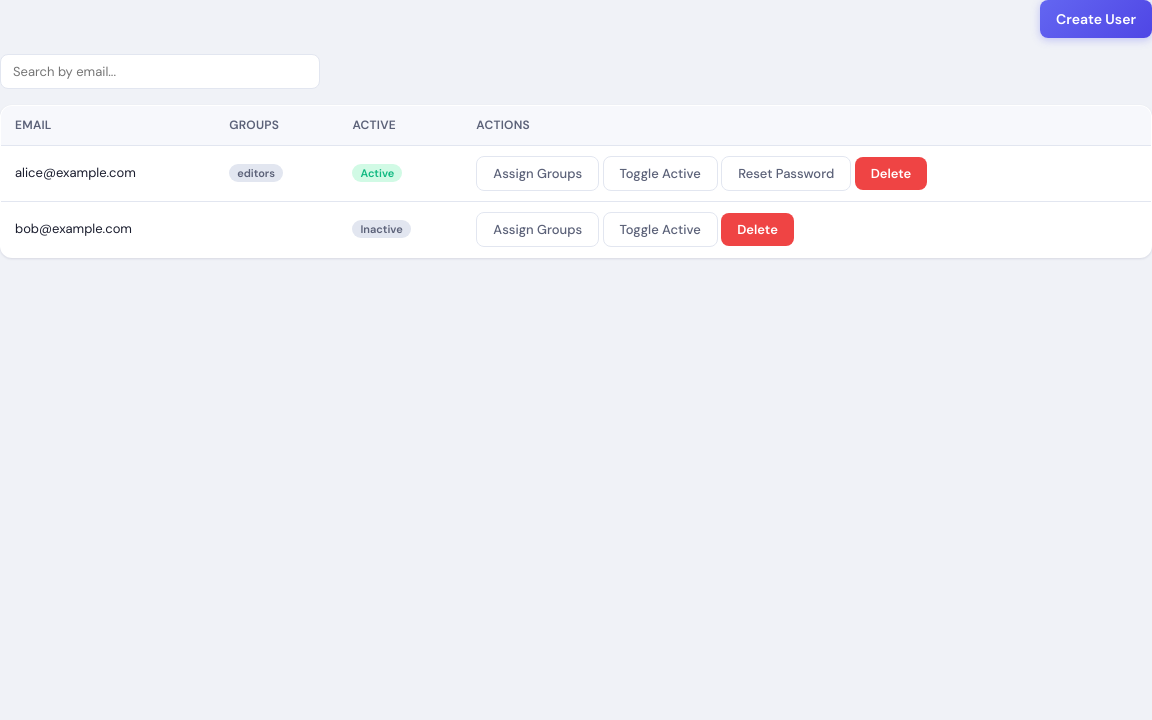
it: UsersTab › opens AssignGroupModal when Assign Groups button is clicked
Expected: the text "alice@example.com" is shown, [0, 146, 215, 202]
Click the button "Assign Groups" in the row of "alice@example.com".
click(538, 174)  # box [476, 156, 599, 191]
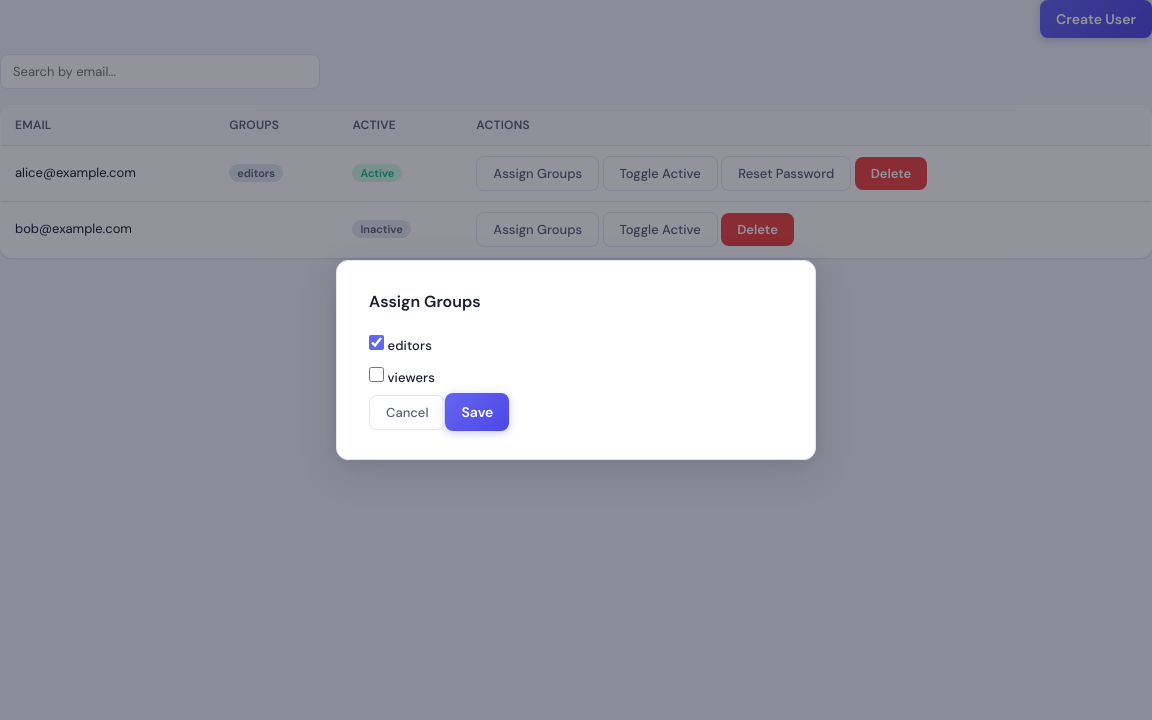
Expected: the element with class "upload-modal" is shown, [336, 260, 816, 460]
